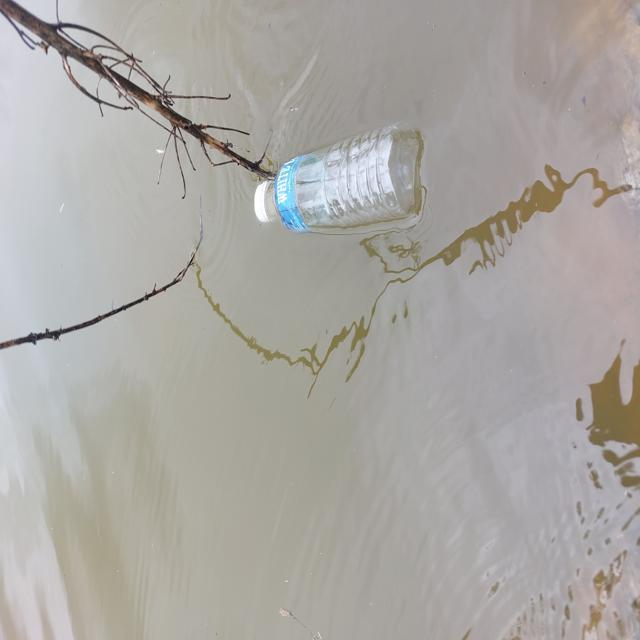waterbottle: (243, 123, 437, 232)
